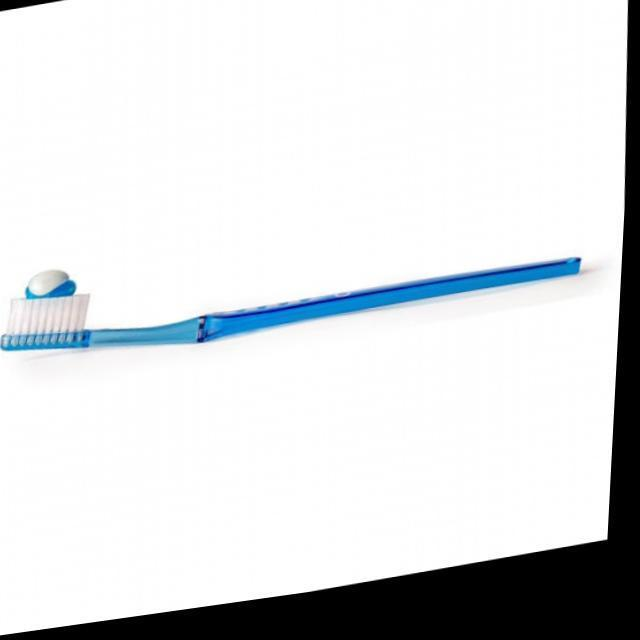toothbrush: (0, 186, 608, 394)
